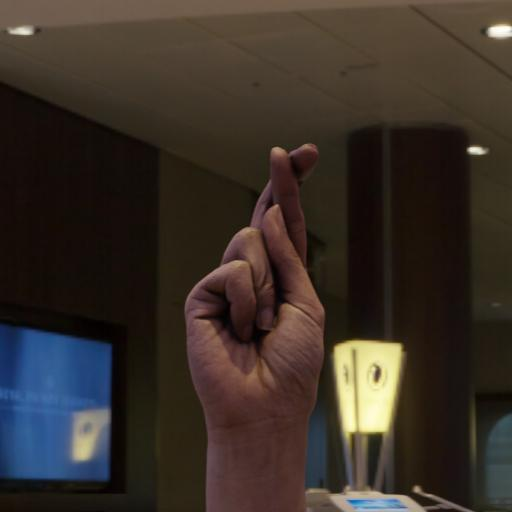R: (170, 126, 351, 512)
